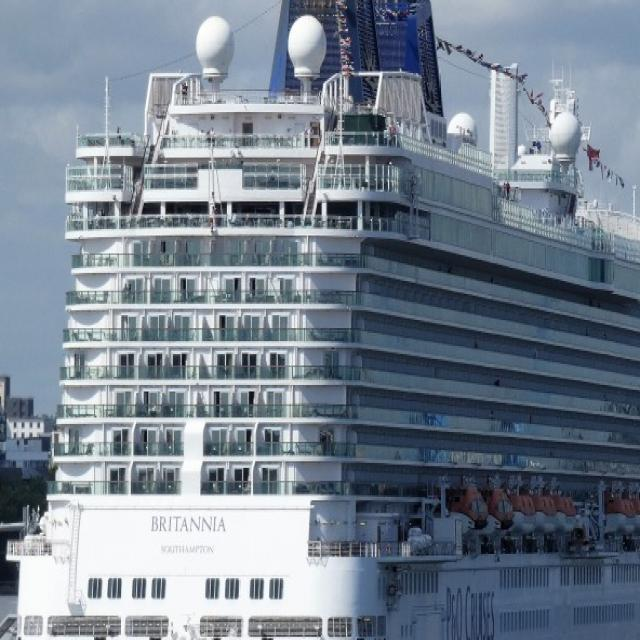cruises: (2, 1, 640, 640)
